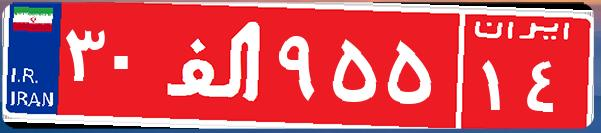0: (110, 28, 158, 105)
1: (475, 38, 525, 113)
3: (57, 26, 110, 107)
4: (525, 38, 570, 115)
5: (385, 28, 445, 110), (330, 28, 385, 110)
9: (273, 28, 330, 110)
الف: (158, 15, 273, 115)
